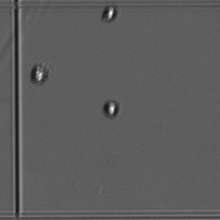Living Cell: (29, 63, 50, 86), (102, 97, 120, 120), (100, 4, 118, 23)
